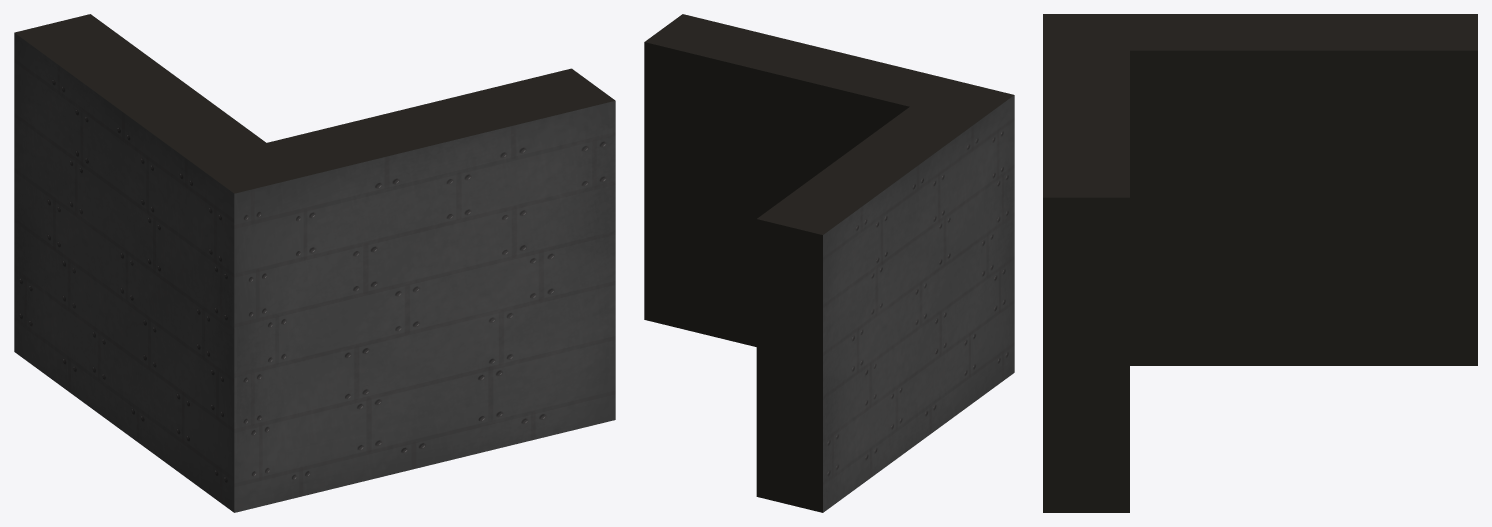
The model's file is corner_wall_tile.obj.
The picture shows the model from 3 angles, left to right: view 1: azimuth 30°, elevation 25°; view 2: azimuth 150°, elevation 25°; view 3: azimuth 270°, elevation 25°; orthographic projection. The views are drawn at different scales.
Parts seen in each view (by area): view 1: corner_wall_tile_Cube.019_Wall, corner_wall_tile_Cube.019_DummySide; view 2: corner_wall_tile_Cube.019_DummySide, corner_wall_tile_Cube.019_Wall; view 3: corner_wall_tile_Cube.019_DummySide.
Boxes of the visible parts, <box> form: corner_wall_tile_Cube.019_Wall: <box>14,33,615,512</box>; corner_wall_tile_Cube.019_DummySide: <box>14,14,615,193</box>; corner_wall_tile_Cube.019_DummySide: <box>644,14,1013,512</box>; corner_wall_tile_Cube.019_Wall: <box>823,95,1014,512</box>; corner_wall_tile_Cube.019_DummySide: <box>1043,14,1477,512</box>.
Size of the model in its own units: 2 by 1.6 by 2.
